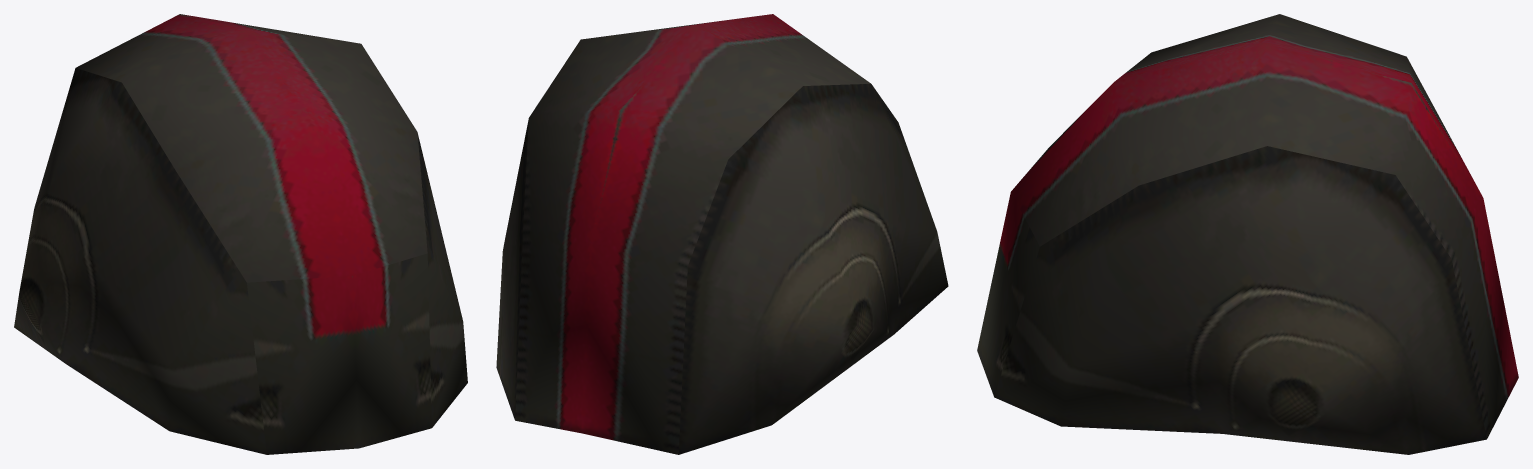
The model's file is Helmet5__BOS.glb.
The picture shows the model from 3 angles, left to right: view 1: azimuth 30°, elevation 25°; view 2: azimuth 150°, elevation 25°; view 3: azimuth 270°, elevation 25°; orthographic projection. The views are drawn at different scales.
Visible parts, largest first — view 1: Helmet5; view 2: Helmet5; view 3: Helmet5.
Part boxes in pixels (left/top/right/bottom): Helmet5: left=14, top=14, right=467, bottom=454; Helmet5: left=496, top=14, right=948, bottom=454; Helmet5: left=977, top=14, right=1518, bottom=454.
Bounding box in the file's own units: 12.59 × 11.15 × 15.37.
1 material, 1 textured.
